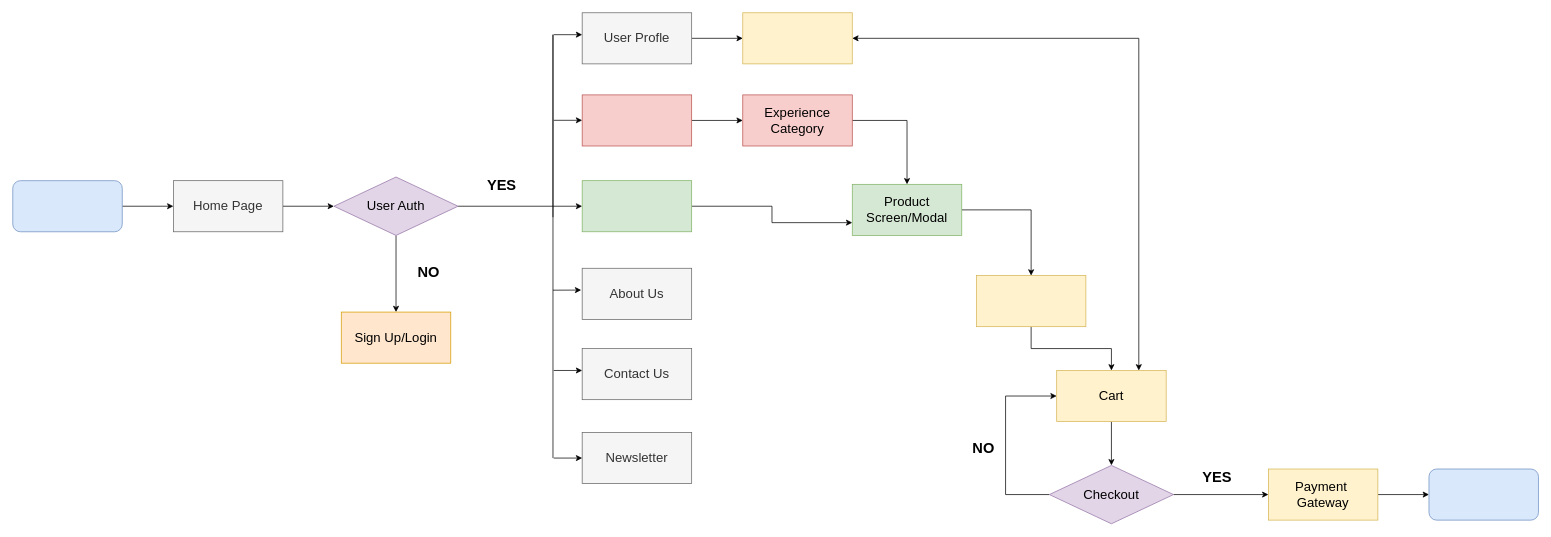
Image size: 1551x537. Some labels were removed from this diagram. Each missing label, with the centre of its shape:
Active Bookings: the point at 797,38
Booking: the point at 1031,301
END: the point at 1483,494
Experiences: the point at 636,120
Featured Trips: the point at 636,206
START: the point at 67,206
